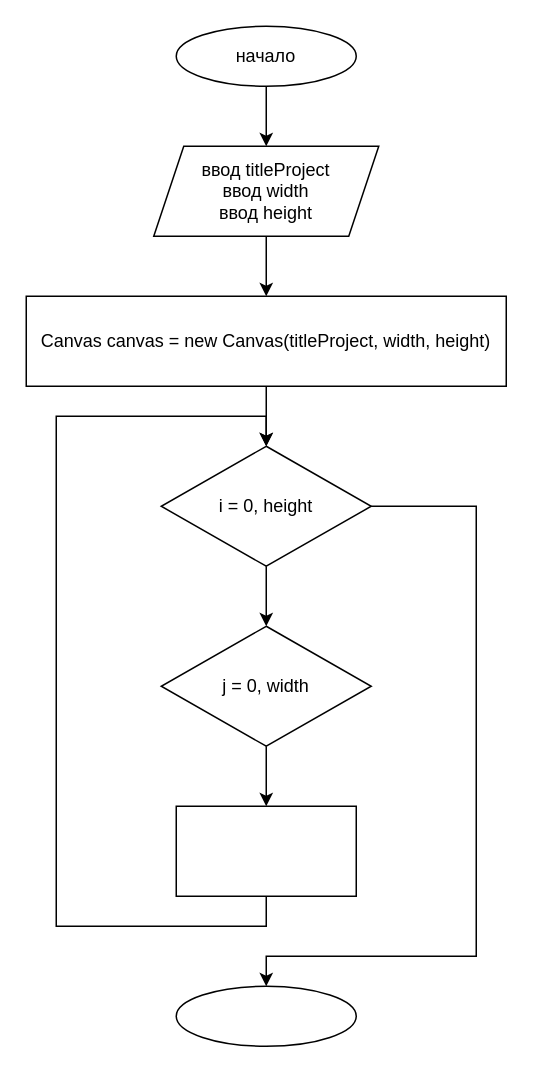
Some shapes in this 533 by 1073 pixel diagram are drawn without their labels. Here are the shapes that lost their labels. From the top down, the centre of each, then its label:
At pixel 265 850: "Создать кнопку на интерфейсе".
At pixel 265 1015: "конец".
